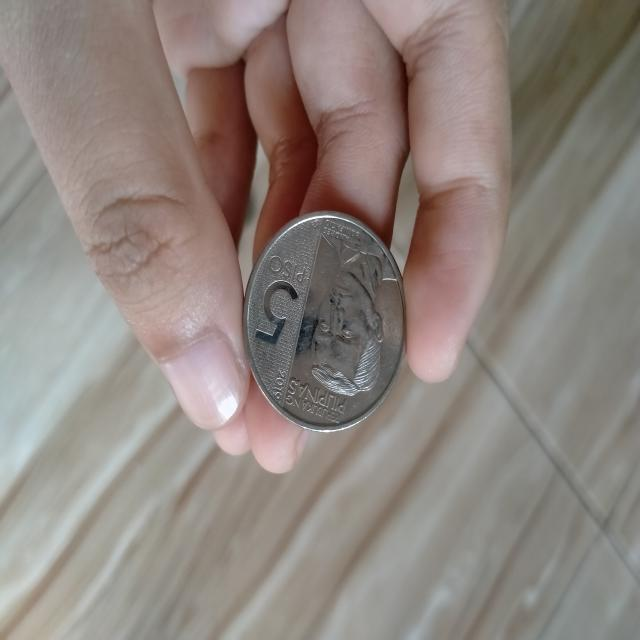5_New_Front: (245, 243, 316, 357)
